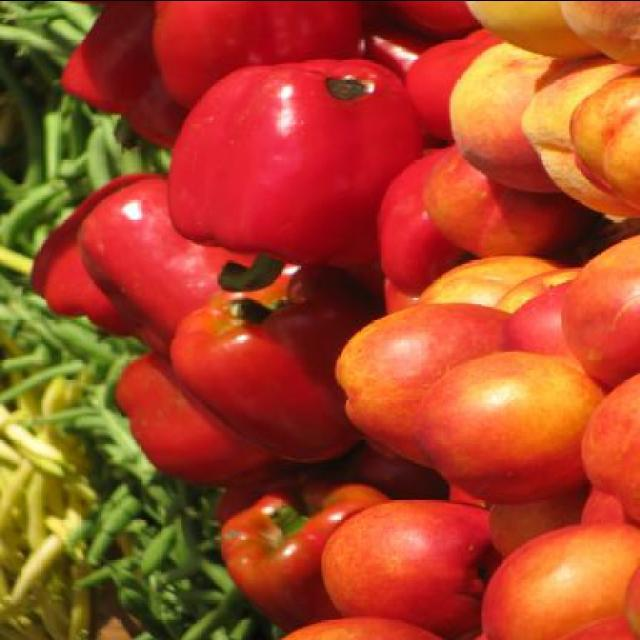Bell pepper: (27, 1, 424, 632)
